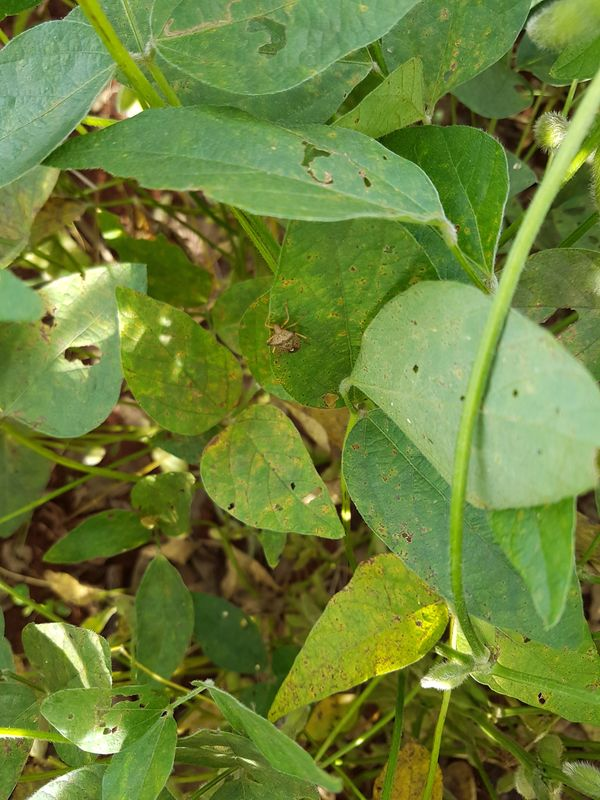Euschistus_heros_adulto: (251, 301, 315, 370)
